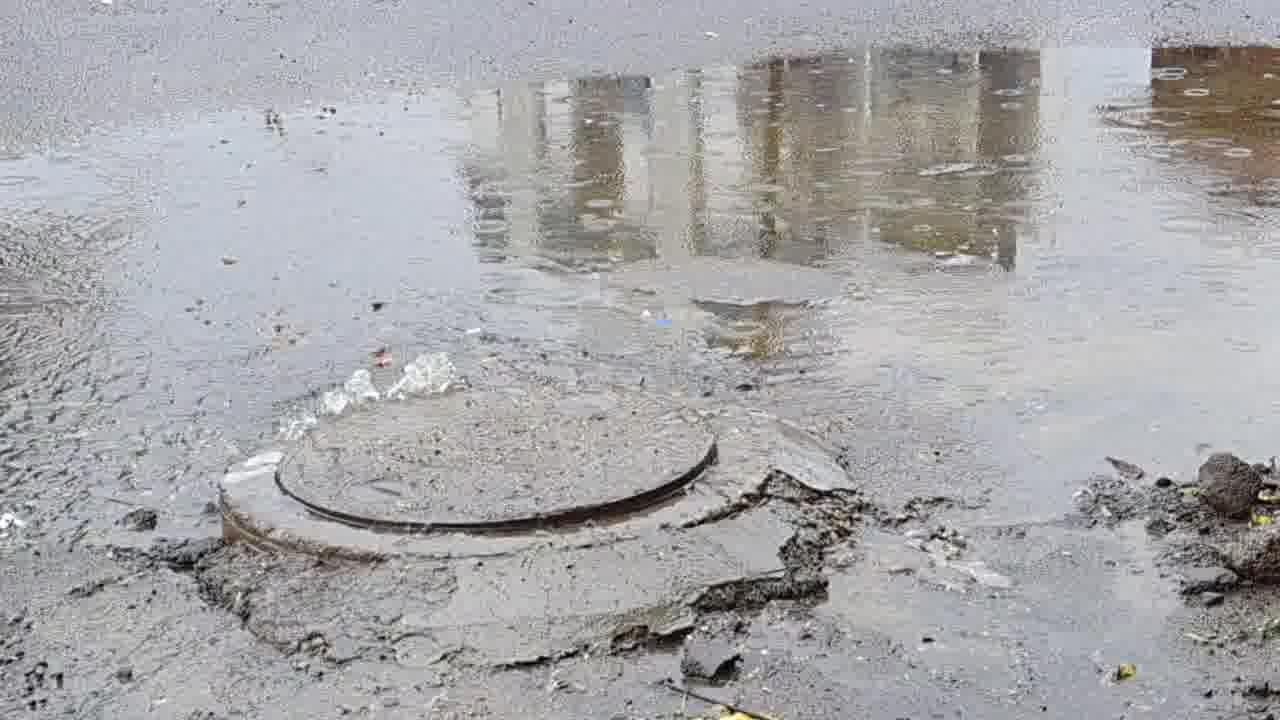drainage_overflow: (168, 326, 756, 549)
